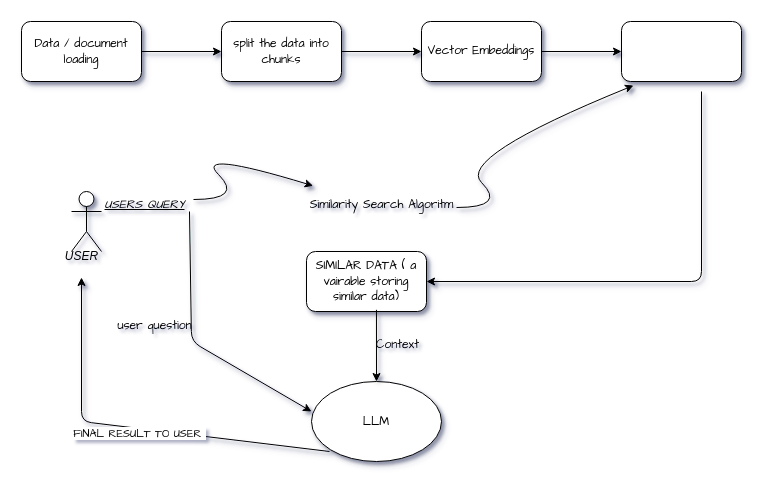
The diagram is 771 pixels wide and 492 high, and some of its shapes have lost their labels. Here are the shapes that lost their labels. From the top down, the centre of each, then its label:
pixel 682 52: Vector DB
pixel 87 222: Actor
